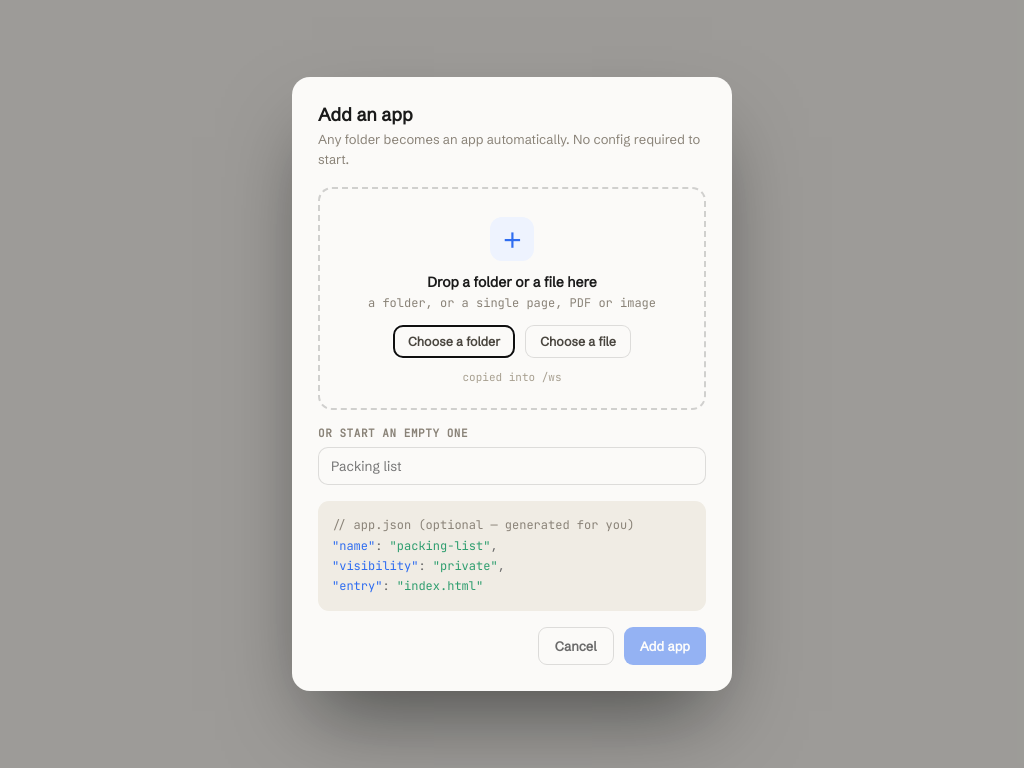
NewAppModal › shows the daemon's own words when it refuses
Type "Notes" into the field with placeholder "Packing list" at (512, 466), box [318,447,706,485]
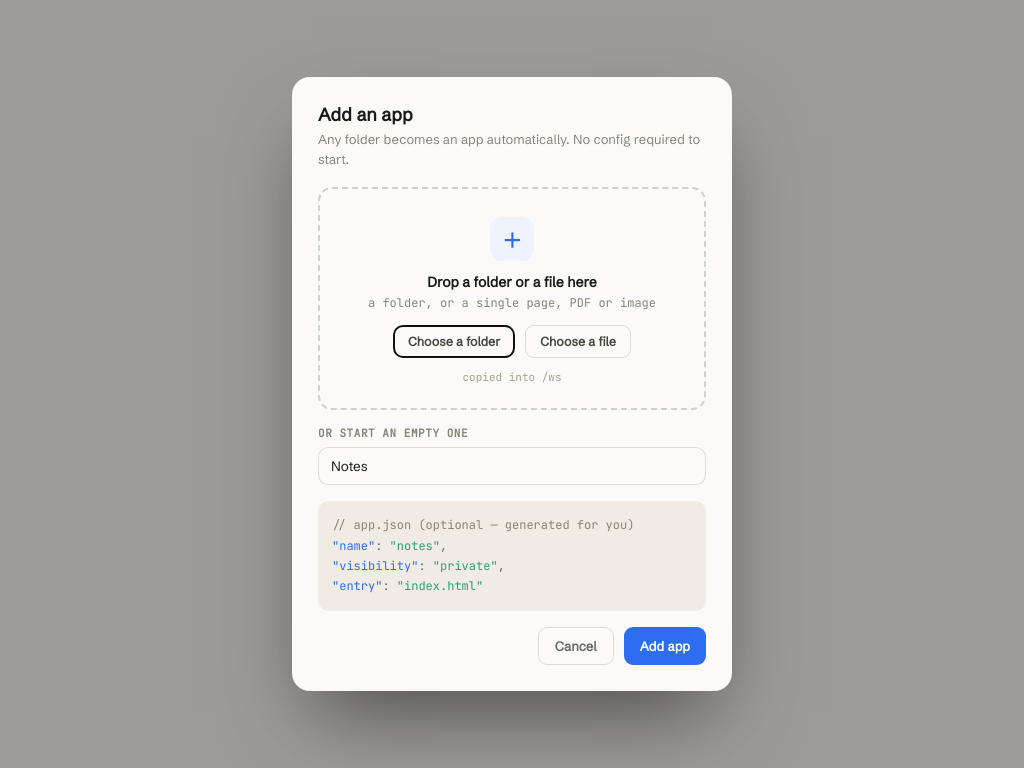
Click the button "Add app" at (665, 646), box [624,627,706,665]
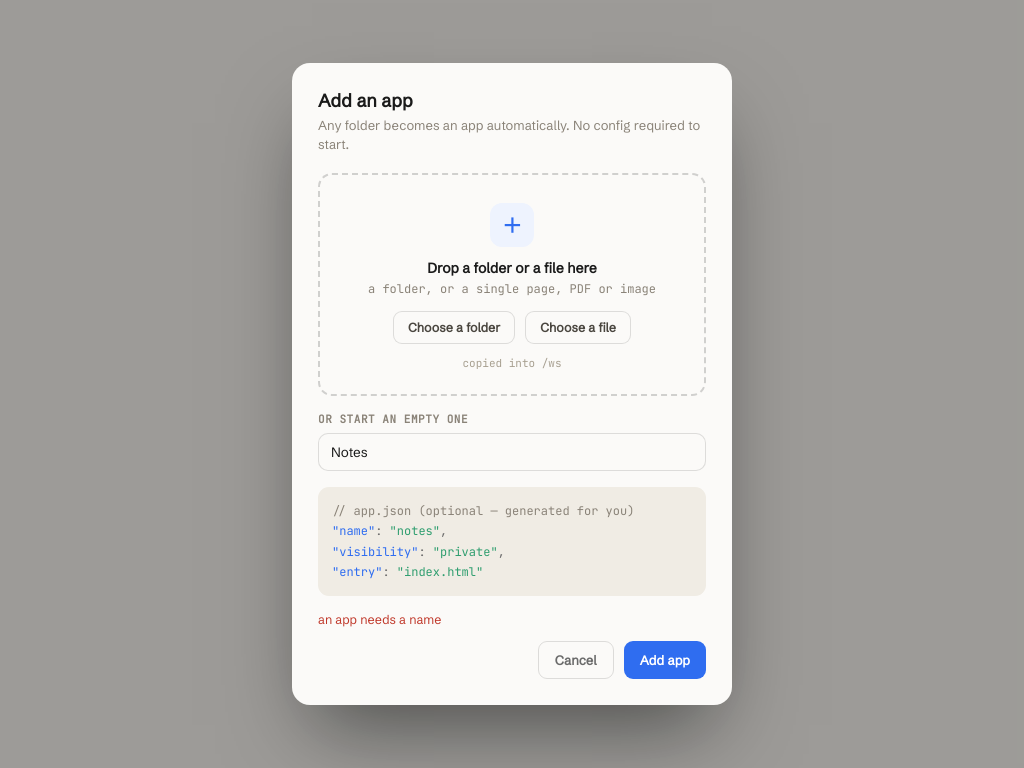
Expected: the message reads "an app needs a name", [318,612,441,627]
